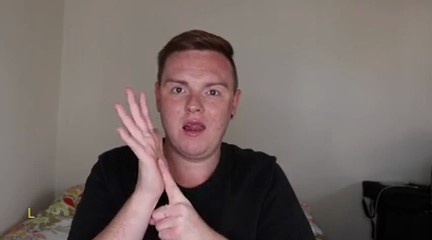L: (105, 84, 203, 240)
